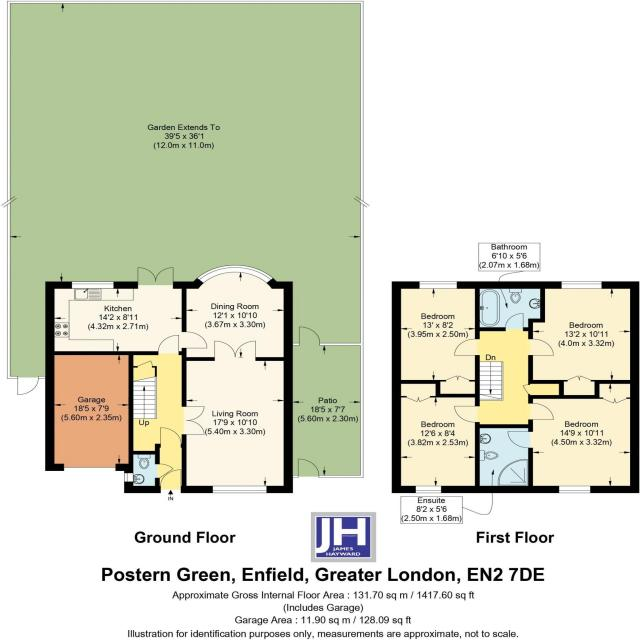DOOR: (159, 469, 182, 494), (292, 458, 320, 478), (159, 426, 183, 447), (453, 405, 481, 423), (527, 402, 555, 420), (454, 337, 480, 356), (157, 334, 180, 355), (182, 331, 208, 349), (528, 338, 554, 356), (507, 430, 533, 448), (298, 326, 321, 346), (17, 376, 39, 396)
DOUBLE DOOR: (136, 264, 177, 289), (213, 340, 257, 362), (182, 405, 206, 436)
ROOM: (182, 340, 294, 493), (506, 380, 640, 493), (46, 265, 210, 354), (528, 282, 640, 384), (182, 264, 294, 362), (391, 281, 481, 384), (391, 394, 480, 493)
WINDOW: (195, 265, 274, 284), (211, 485, 267, 494), (71, 281, 115, 289), (559, 281, 603, 289), (418, 281, 458, 289), (557, 485, 592, 494), (415, 486, 442, 493)
